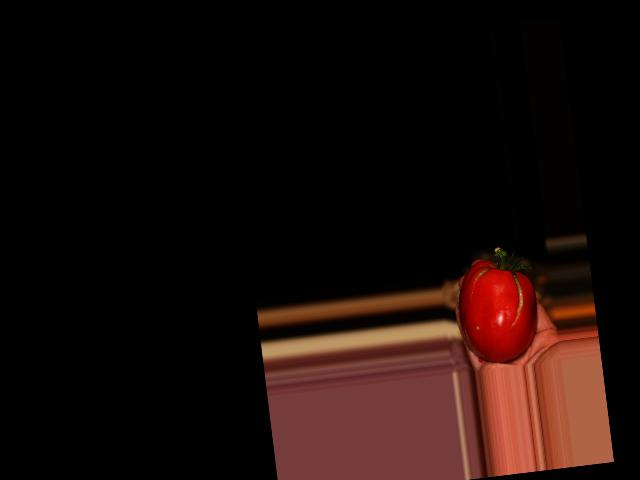tomato: (452, 254, 541, 367)
